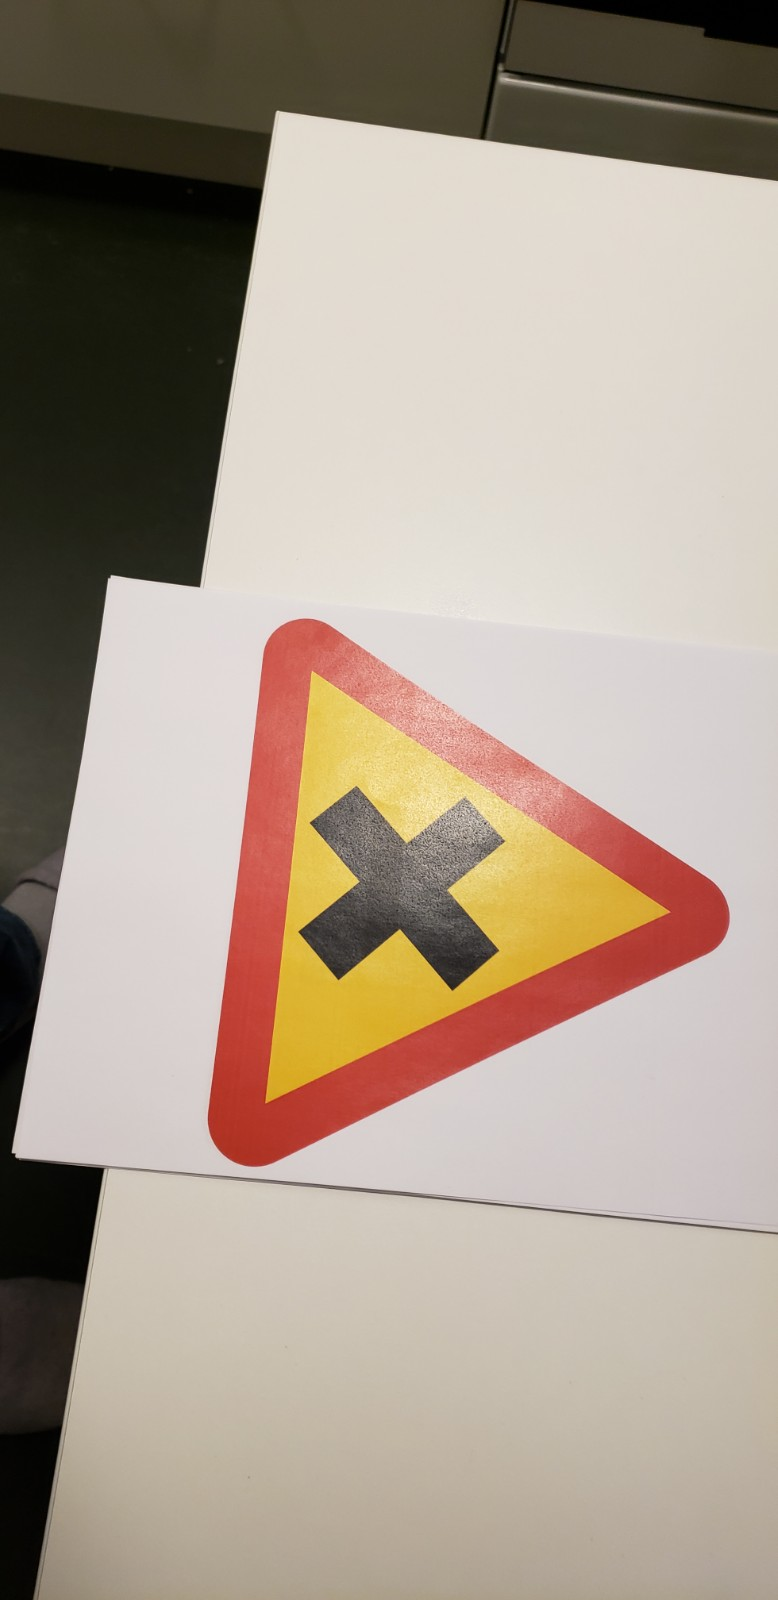junction: (206, 599, 733, 1181)
